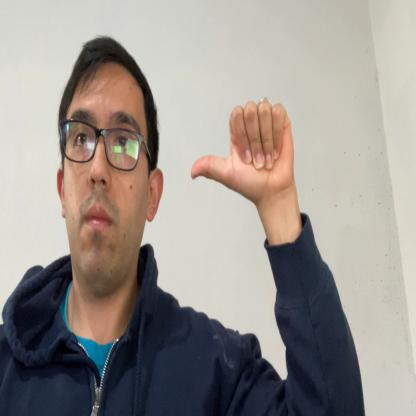A: (190, 96, 294, 200)
